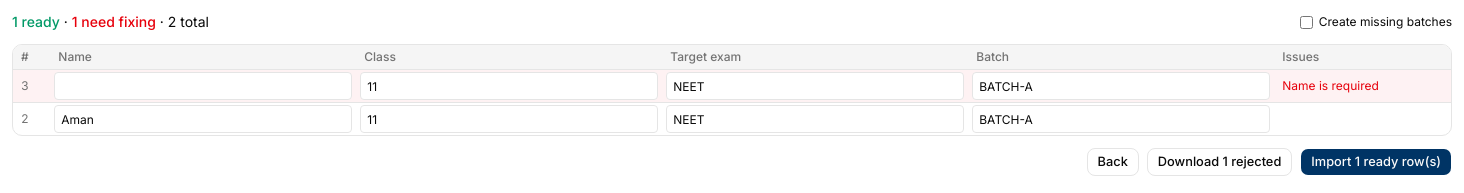
Test case: ValidationGridStep › re-validates after editing a cell
This screenshot has width=1464, height=193.
Type "Bina" into the field named "name row 3".
click(203, 86); type("Bina")  # box [54,72,352,100]
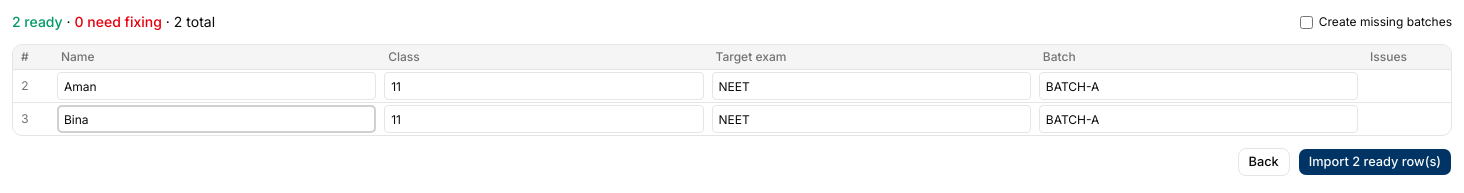
Now the text "2 ready" is shown, box [12,13,63,30]
